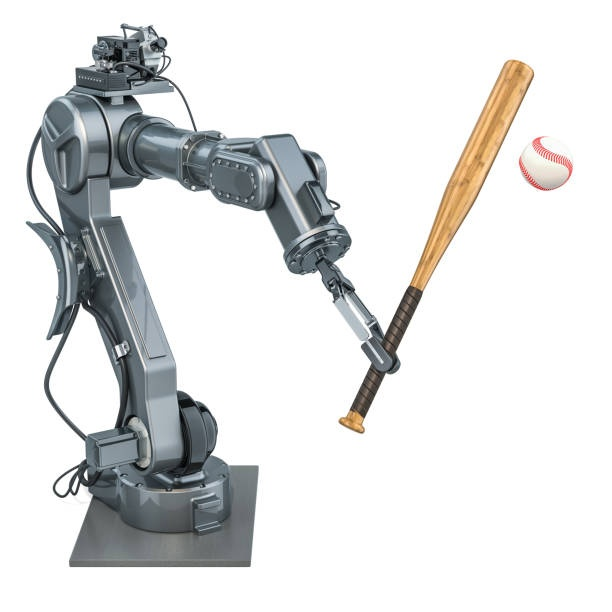bita: (349, 55, 534, 439)
